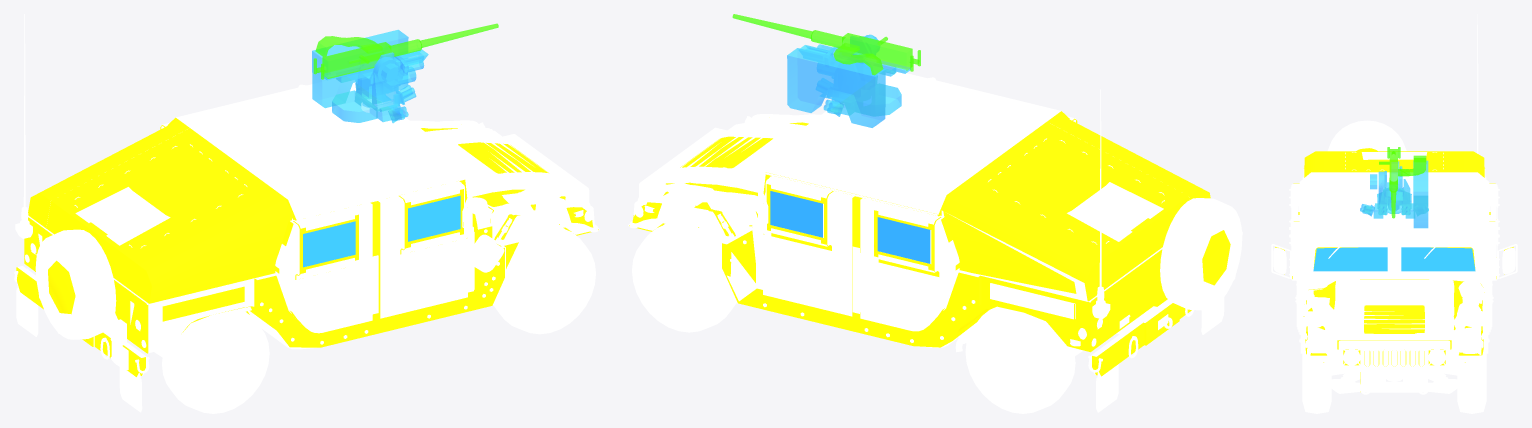
3 renders of one model, left to right at view 1: azimuth 30°, elevation 25°; view 2: azimuth 150°, elevation 25°; view 3: azimuth 270°, elevation 25°, orthographic. The views are drawn at different scales.
Parts seen in each view (by area): view 1: 20, M1151_Col, CROWS_Stryker_Turret_COL2, 20_2, M1151_Col_2, crows_m2_col_1, crows_m2_col, 20_3; view 2: 20, M1151_Col, CROWS_Stryker_Turret_COL2, 20_2, M1151_Col_2, crows_m2_col_1, crows_m2_col; view 3: 20, M1151_Col, M1151_Col_2, CROWS_Stryker_Turret_COL2, 20_2, crows_m2_col_1, crows_m2_col, 20_3, 20_1.
Part boxes in pixels (box(x1,y1,x2,y2)): 20: box(14, 14, 599, 413); M1151_Col: box(16, 117, 598, 376); CROWS_Stryker_Turret_COL2: box(312, 29, 416, 123); 20_2: box(245, 109, 381, 167); M1151_Col_2: box(303, 195, 460, 267); crows_m2_col_1: box(313, 23, 498, 79); crows_m2_col: box(322, 49, 428, 97); 20_3: box(350, 99, 394, 133); 20: box(628, 68, 1242, 413); M1151_Col: box(629, 111, 1230, 376); CROWS_Stryker_Turret_COL2: box(787, 36, 901, 127); 20_2: box(851, 103, 990, 162); M1151_Col_2: box(770, 191, 930, 263); crows_m2_col_1: box(732, 14, 920, 75); crows_m2_col: box(799, 34, 910, 89); 20: box(1271, 14, 1517, 413); M1151_Col: box(1275, 148, 1513, 391); M1151_Col_2: box(1313, 247, 1475, 271); CROWS_Stryker_Turret_COL2: box(1360, 160, 1428, 228); 20_2: box(1344, 180, 1444, 222); crows_m2_col_1: box(1379, 147, 1426, 218); crows_m2_col: box(1370, 161, 1404, 211); 20_3: box(1382, 206, 1406, 227); 20_1: box(1345, 352, 1443, 363).
Size of the model in its own units: 5.13 by 3.2 by 2.88.
